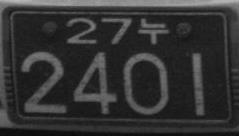0: (123, 51, 169, 116)
1: (178, 52, 217, 115)
2: (21, 50, 66, 114), (66, 16, 97, 44)
4: (72, 50, 117, 114)
7: (101, 16, 132, 45)
누: (138, 18, 168, 45)
